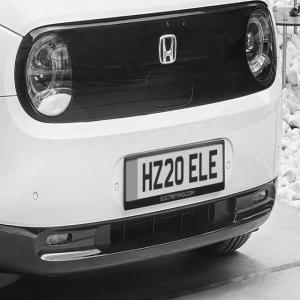Plate: (124, 140, 225, 210)
